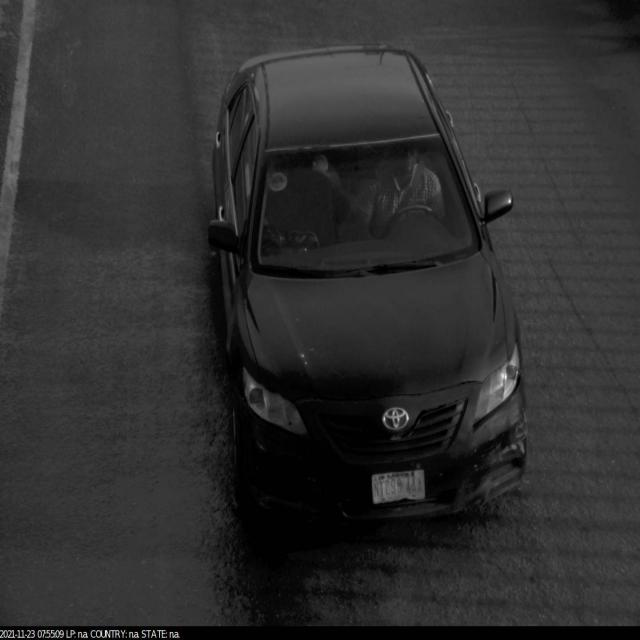windshield: (240, 127, 488, 294)
